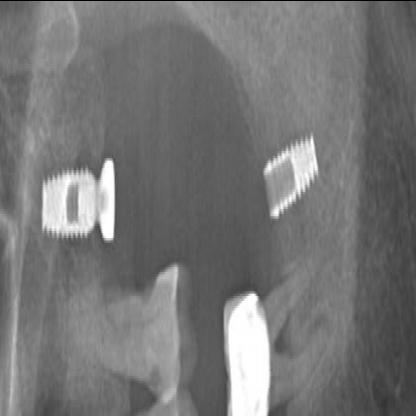Bicon: (33, 164, 109, 244), (261, 140, 323, 224)
